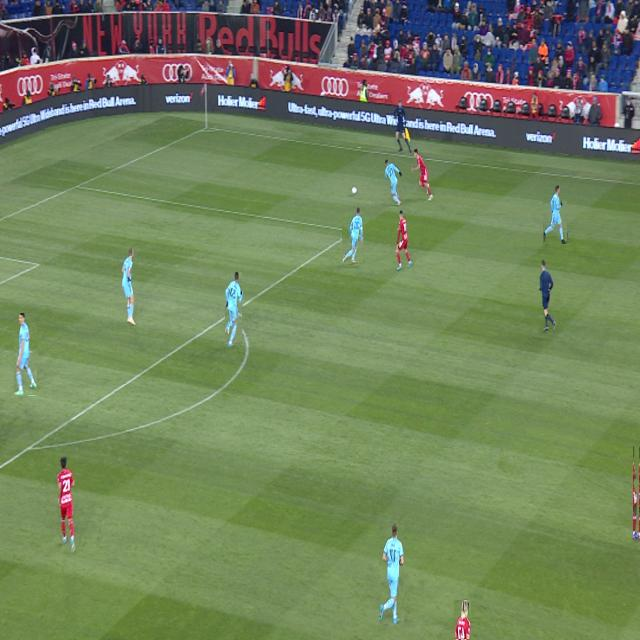football: (352, 186, 357, 194)
player: (379, 524, 404, 624), (14, 314, 37, 395), (57, 457, 75, 553), (544, 186, 567, 244), (226, 272, 242, 347), (342, 208, 363, 264), (121, 248, 136, 326), (411, 149, 433, 201), (396, 210, 412, 271), (385, 160, 402, 205), (454, 600, 471, 639), (634, 446, 639, 539)
referee: (538, 258, 556, 331)
